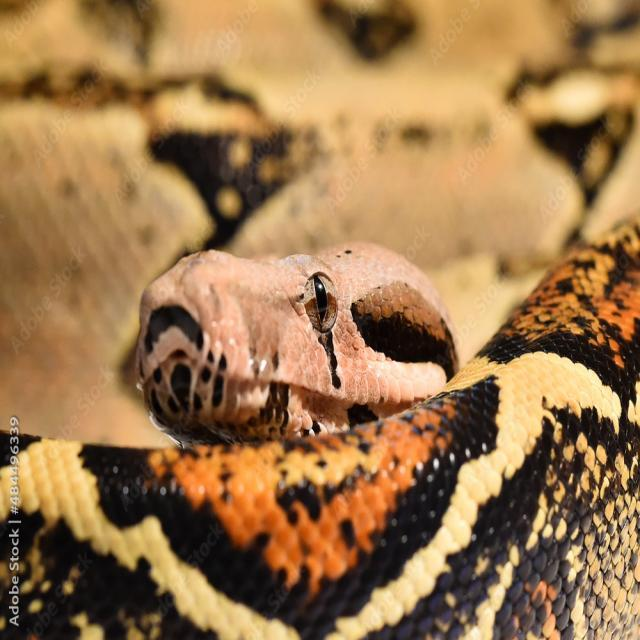Snake: (29, 35, 639, 640)
